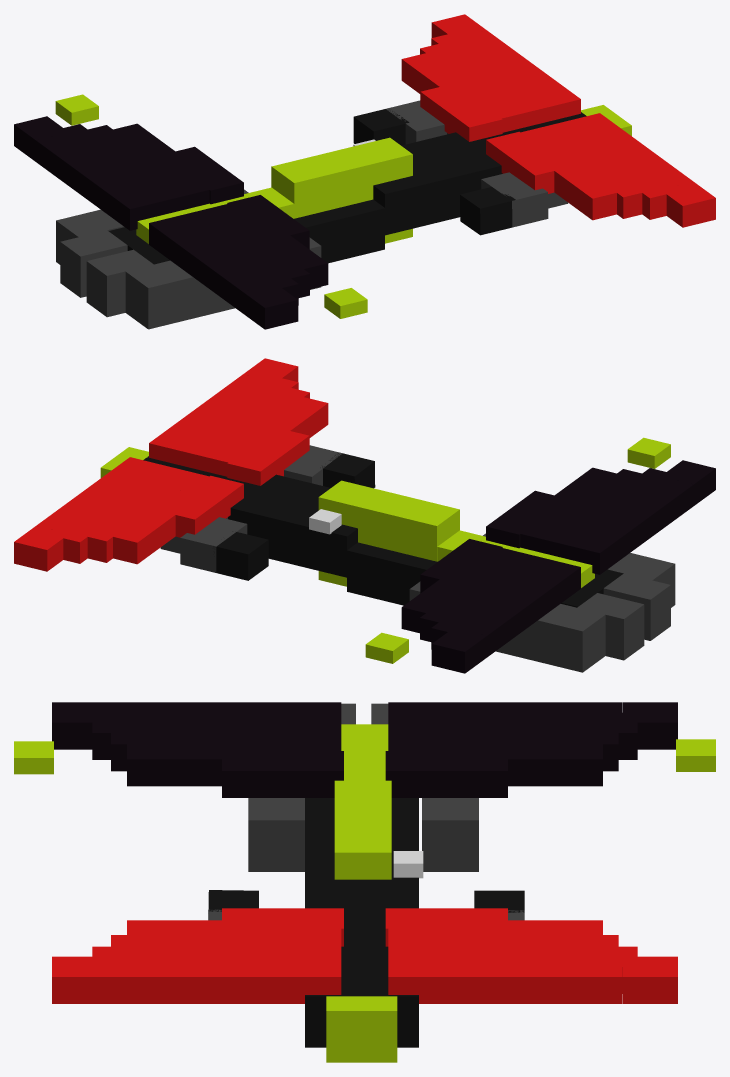
File: Monster3.fbx
3 renders of one model, top to bottom at view 1: azimuth 30°, elevation 25°; view 2: azimuth 150°, elevation 25°; view 3: azimuth 270°, elevation 25°, orthographic. The views are drawn at different scales.
Parts seen in each view (by area): view 1: Box007, Box001, Box006, Box010, Box008, Box002, Box012, Box014, Box035, Box065, Box136, Box049 (+73 smaller); view 2: Box007, Box001, Box006, Box002, Box014, Box013, Box015, Box010, Box030, Box045, Box156, Box069 (+79 smaller); view 3: Box007, Box016, Box003, Box008, Box013, Box001, Box041, Box156, Box136, Box038, Box002, Box061 (+84 smaller).
Boxes of the visible parts, box(x1,y1,x2,y2) form: Box007: box(271, 137, 412, 243); Box001: box(373, 142, 462, 235); Box006: box(294, 199, 384, 263); Box010: box(86, 249, 153, 317); Box008: box(149, 237, 321, 323); Box002: box(417, 131, 510, 193); Box012: box(125, 266, 171, 329); Box014: box(60, 230, 127, 297); Box035: box(460, 187, 515, 235); Box065: box(243, 284, 298, 329); Box136: box(661, 182, 715, 227); Box049: box(108, 185, 162, 230); Box007: box(318, 480, 459, 586); Box001: box(270, 484, 357, 577); Box006: box(347, 542, 432, 605); Box002: box(219, 474, 313, 558); Box014: box(577, 593, 644, 660); Box013: box(409, 581, 583, 666); Box015: box(559, 609, 605, 672); Box010: box(603, 573, 670, 640); Box030: box(213, 531, 268, 580); Box045: box(431, 628, 486, 673); Box156: box(14, 526, 68, 571); Box069: box(566, 529, 621, 574); Box007: box(334, 780, 391, 879); Box016: box(326, 996, 397, 1062); Box003: box(305, 950, 418, 1047); Box008: box(248, 798, 304, 871); Box013: box(422, 798, 478, 871); Box001: box(305, 855, 418, 903); Box041: box(547, 739, 602, 786); Box156: box(623, 956, 677, 1003); Box136: box(52, 956, 106, 1003); Box038: box(452, 751, 507, 797); Box002: box(305, 903, 418, 950); Box061: box(127, 739, 181, 786).
Bounding box in the file's own units: 135 × 20 × 123.
